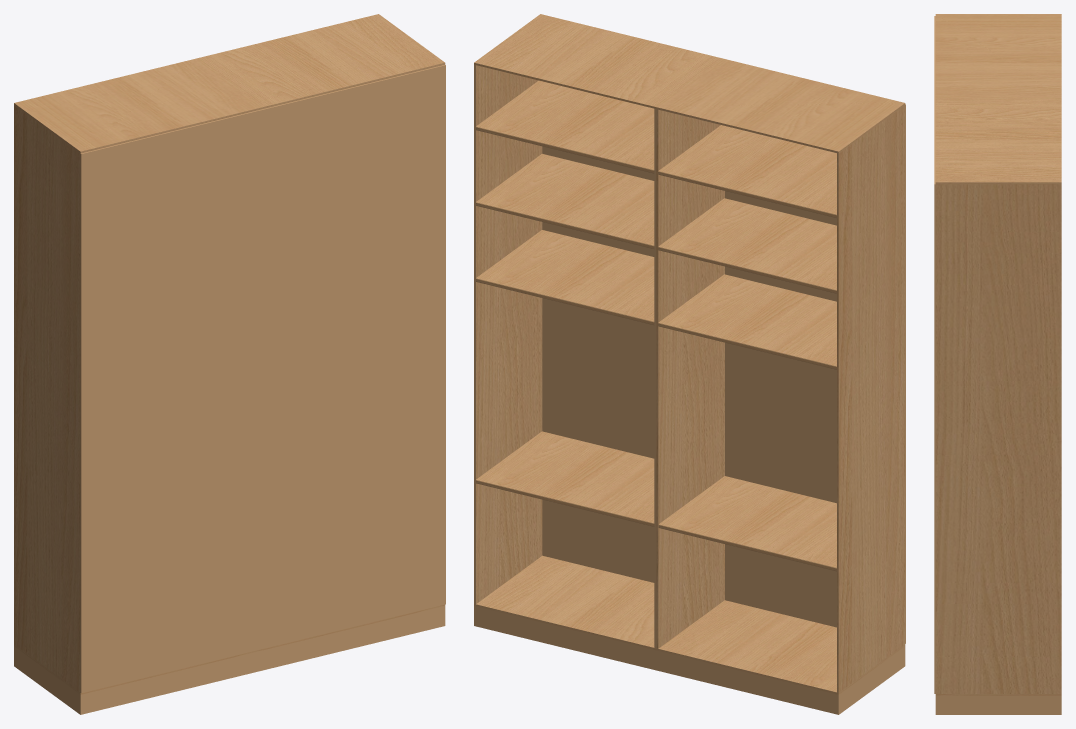
File: lockerTypeTwoDefoult1.gltf
3 views of the same model, side by side, from view 1: azimuth 30°, elevation 25°; view 2: azimuth 150°, elevation 25°; view 3: azimuth 270°, elevation 25° (orthographic). The views are drawn at different scales.
Parts seen in each view (by area): view 1: lockerTypeTwoDefoult1; view 2: lockerTypeTwoDefoult1; view 3: lockerTypeTwoDefoult1.
Part boxes in pixels (x1=…): lockerTypeTwoDefoult1: x1=14, y1=14, x2=445, y2=714; lockerTypeTwoDefoult1: x1=474, y1=14, x2=905, y2=714; lockerTypeTwoDefoult1: x1=934, y1=14, x2=1061, y2=714.
Bounding box in the file's own units: 1.9 × 2.8 × 0.606.
Materials: 1 (1 with a texture image).
